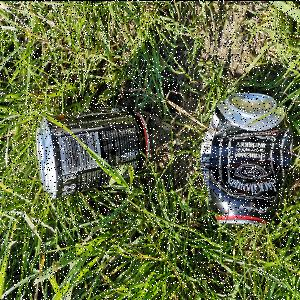Can: (201, 92, 295, 231), (37, 105, 151, 200)
